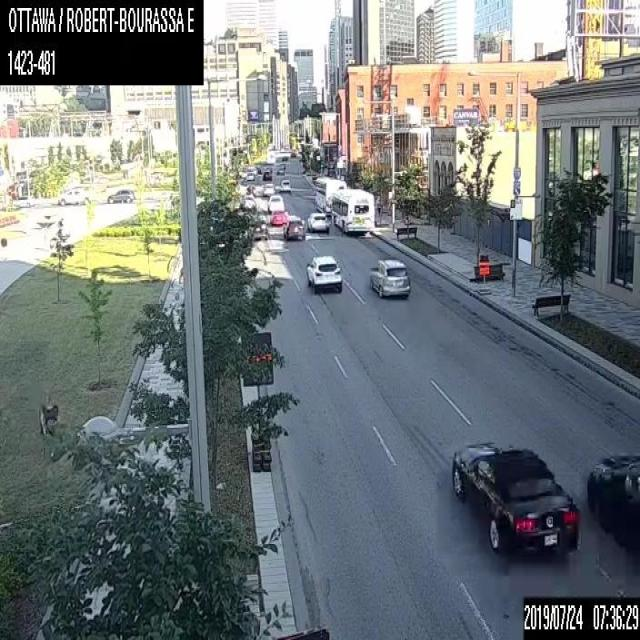bus: (329, 187, 375, 234), (313, 176, 346, 215)
construction: (241, 332, 273, 472), (477, 262, 488, 294)
vehicle: (449, 438, 578, 554), (586, 451, 639, 557), (369, 256, 411, 299), (304, 253, 342, 292), (57, 186, 92, 206), (282, 214, 305, 239), (306, 211, 330, 233), (106, 188, 136, 204), (267, 193, 284, 212), (269, 208, 287, 224), (244, 169, 254, 183), (279, 179, 290, 191), (262, 168, 272, 180)
